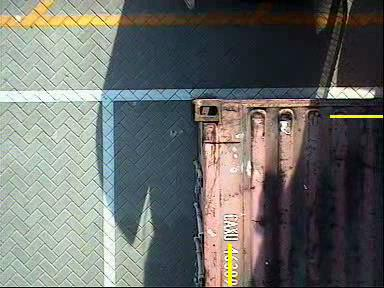groundmarker_2: (123, 151, 191, 193)
